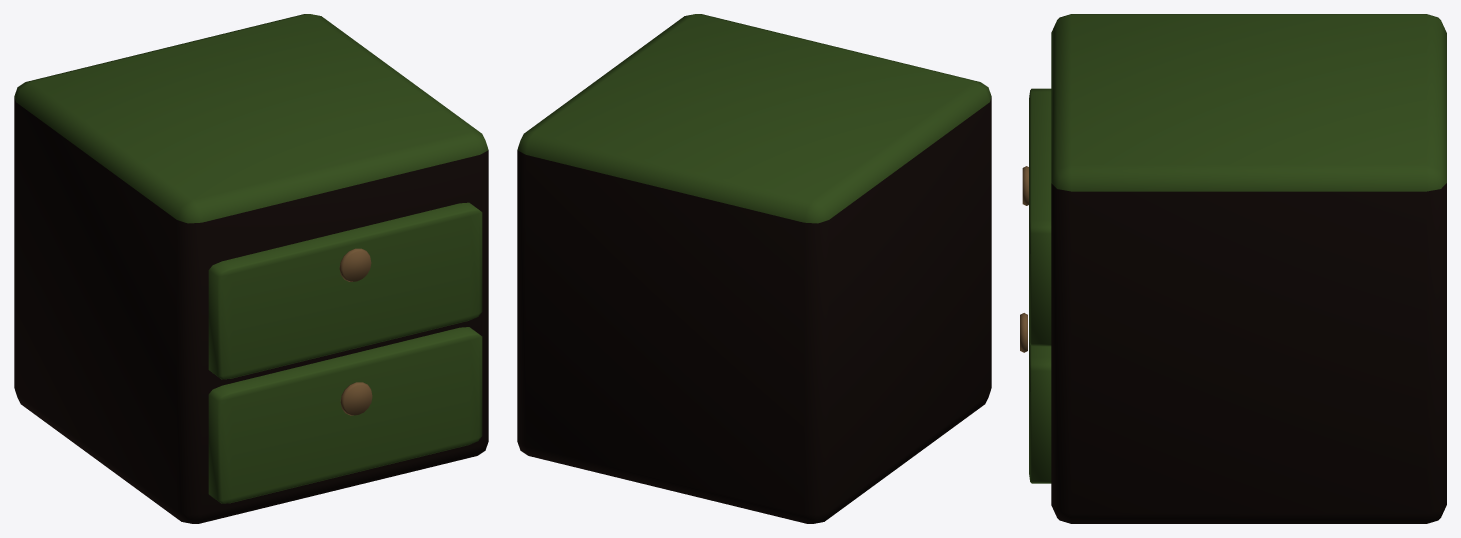
Rendered from Drawer monster.fbx.
3 renders of one model, left to right at view 1: azimuth 30°, elevation 25°; view 2: azimuth 150°, elevation 25°; view 3: azimuth 270°, elevation 25°, orthographic. The views are drawn at different scales.
Visible parts, largest first — view 1: Grill.007, Grill.009, Grill.008, Circle.006, Circle.008; view 2: Grill.007; view 3: Grill.007, Grill.009, Grill.008.
Boxes of the visible parts, <box> form: Grill.007: <box>14,14,488,523</box>; Grill.009: <box>208,202,482,379</box>; Grill.008: <box>208,327,482,503</box>; Circle.006: <box>340,382,372,415</box>; Circle.008: <box>339,248,371,281</box>; Grill.007: <box>517,14,991,523</box>; Grill.007: <box>1051,14,1446,523</box>; Grill.009: <box>1029,88,1051,346</box>; Grill.008: <box>1029,337,1051,483</box>.
Bounding box in the file's own units: 100 × 100 × 108.
